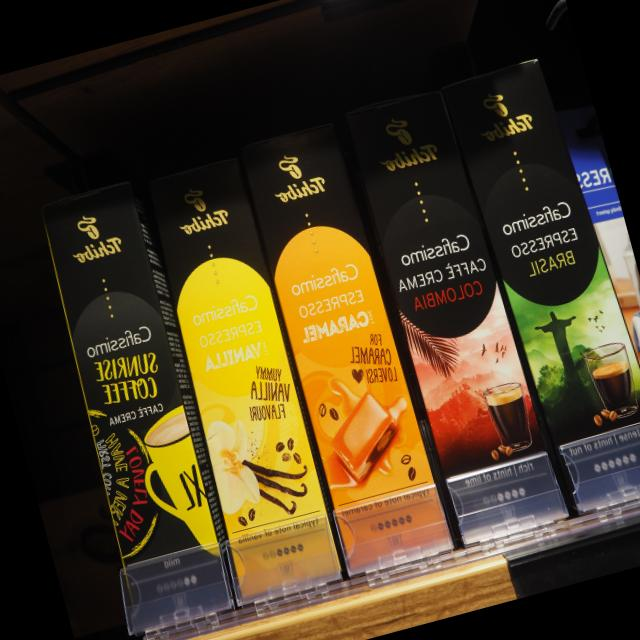Simo CC Colombia: (335, 85, 570, 541)
Simo Es Brazil: (437, 53, 640, 519)
Simo Es Caramel: (237, 120, 458, 574)
Simo Es Vanilla: (141, 152, 344, 611)
Simo Sunrise: (39, 179, 232, 640)
